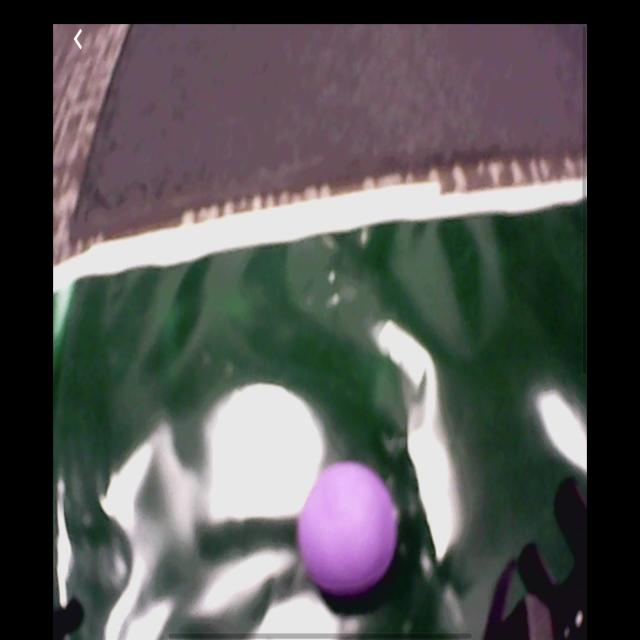ball: (298, 464, 398, 595)
